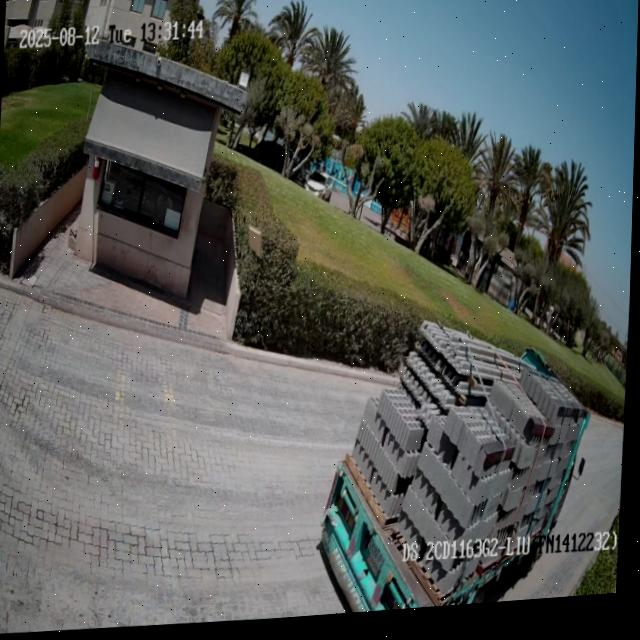bricks: (351, 321, 587, 597)
